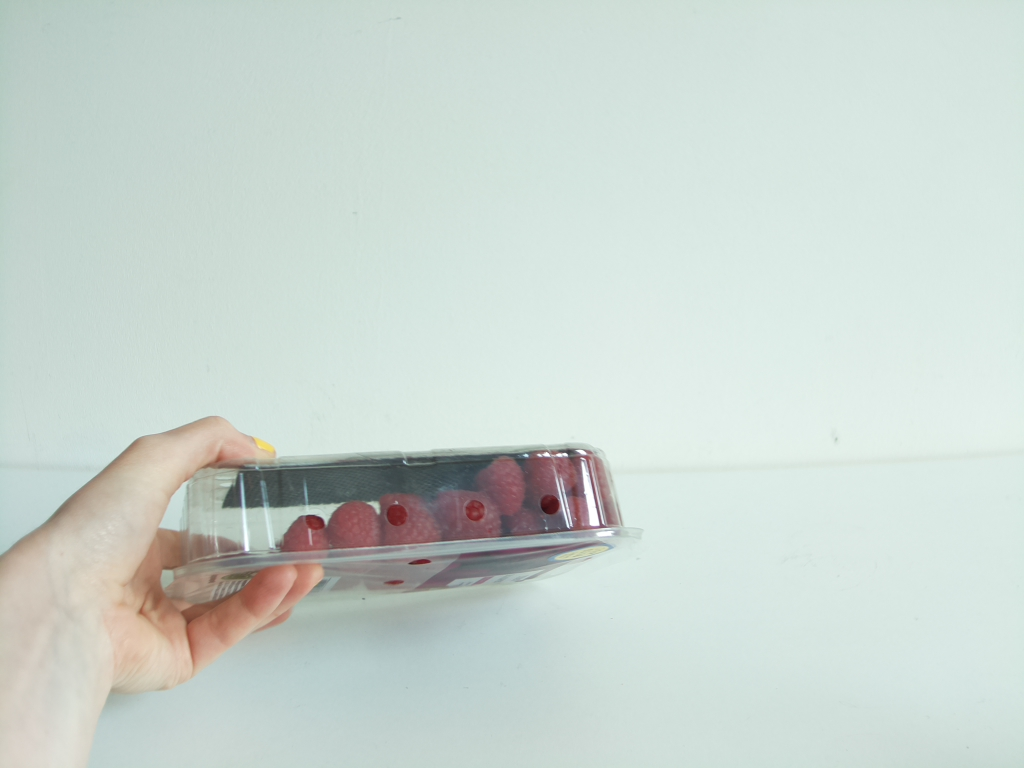soft-fruit: (159, 435, 638, 608)
